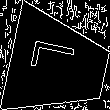L_E: (31, 45, 86, 85)
